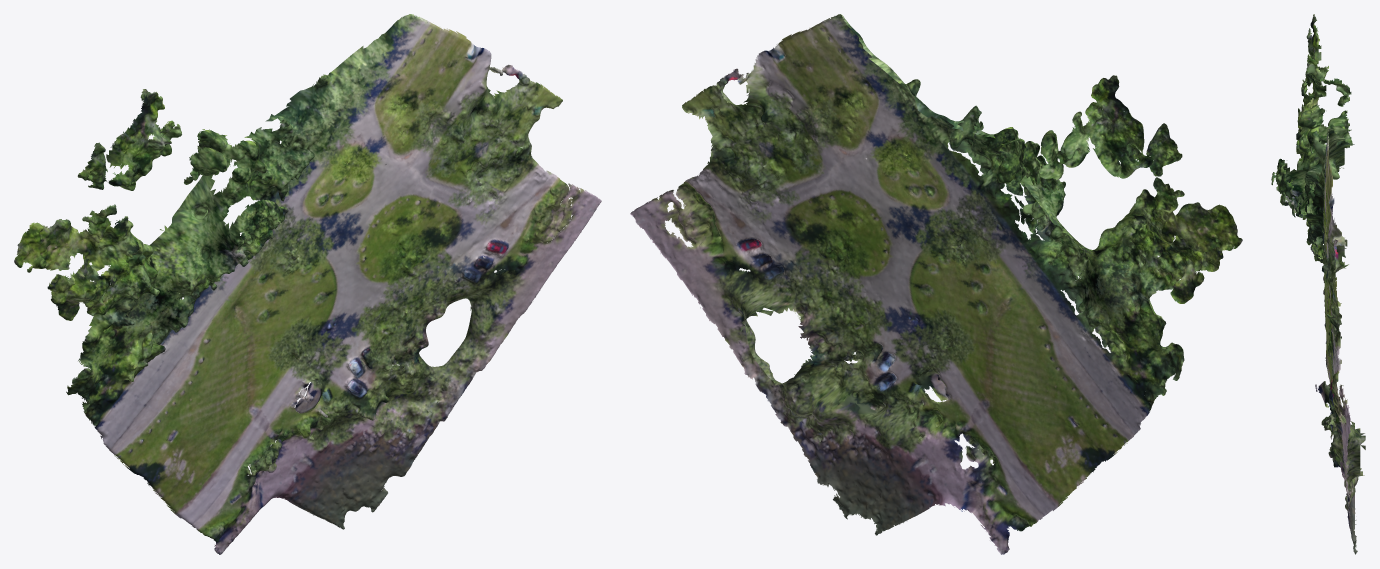
Rendered from odm_textured_model_geo.obj.
3 views of the same model, side by side, from view 1: azimuth 30°, elevation 25°; view 2: azimuth 150°, elevation 25°; view 3: azimuth 270°, elevation 25° (orthographic). The views are drawn at different scales.
Size of the model in its own units: 134 by 108 by 20.73.
Materials: 2 (2 with a texture image).
